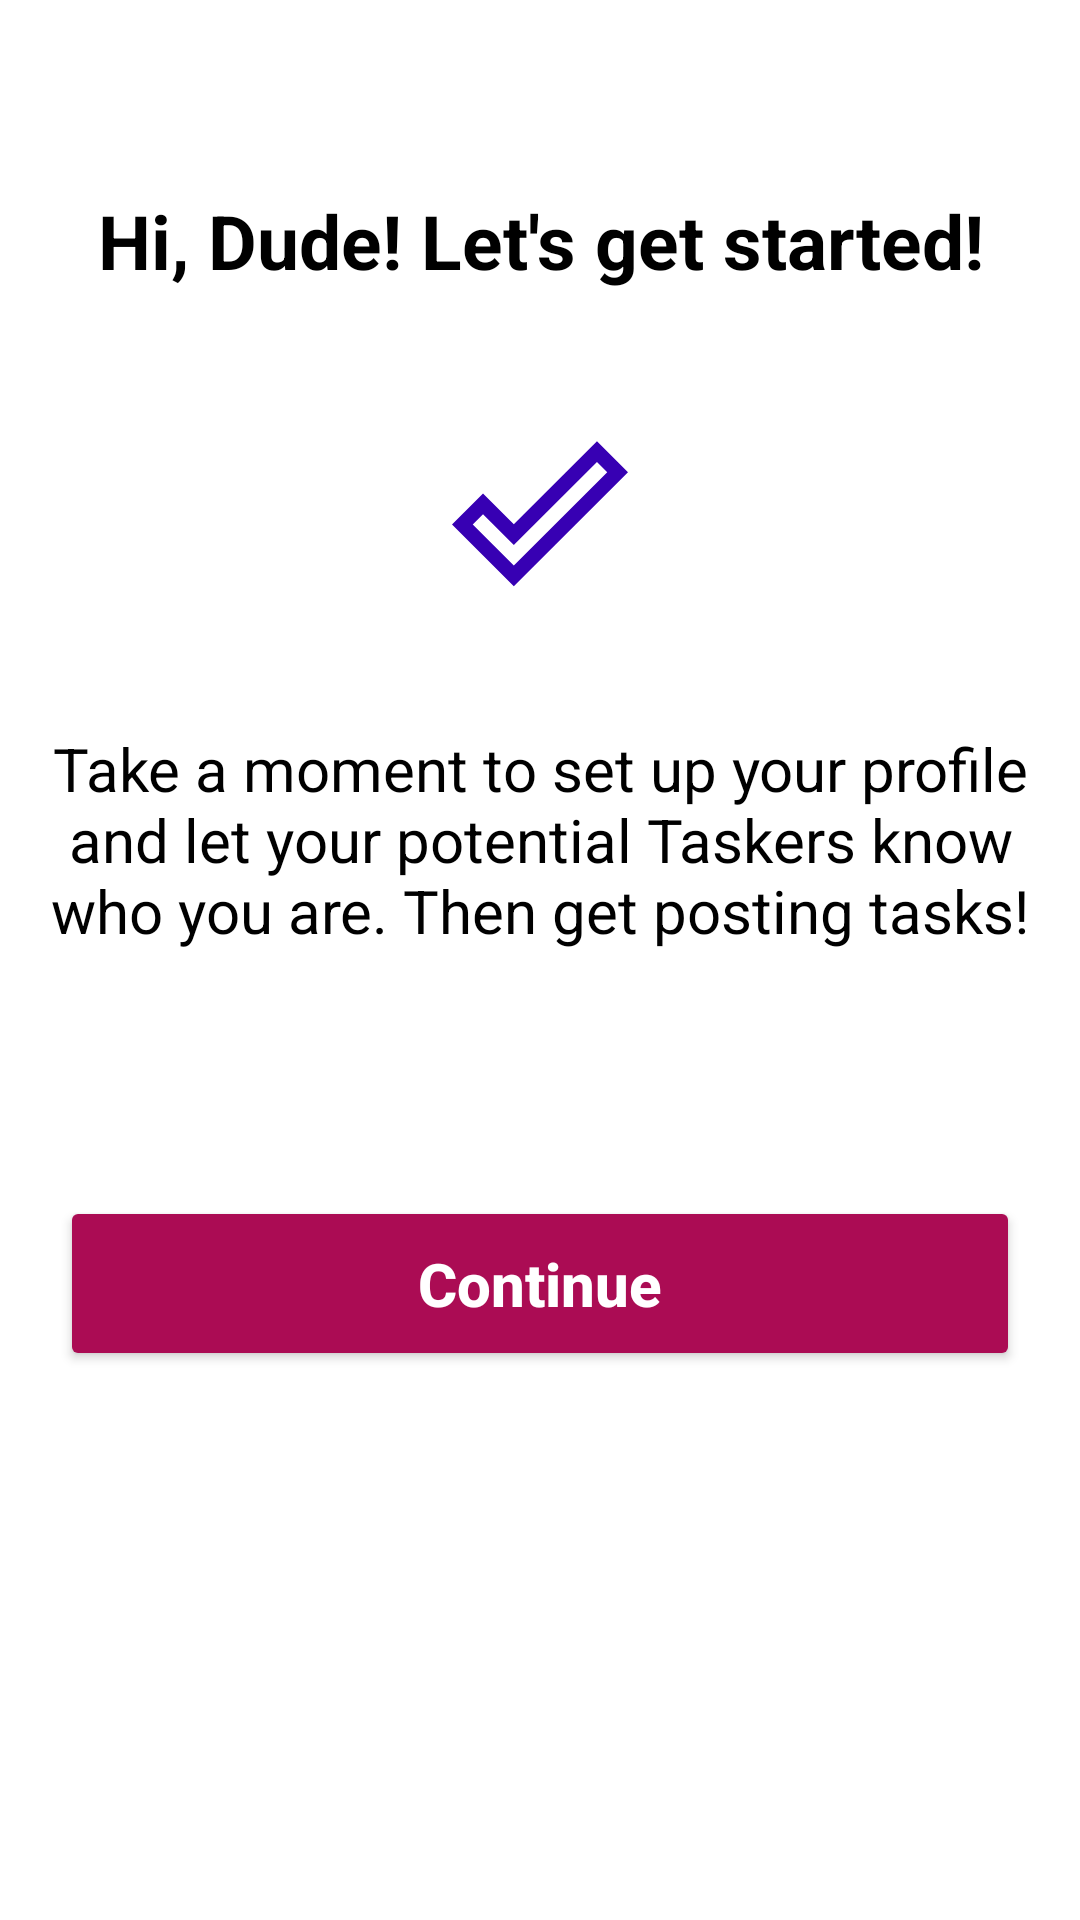

Screen size 1080×1920. Icon name, then its center in pixels as (x,y):
done: (540,513)
